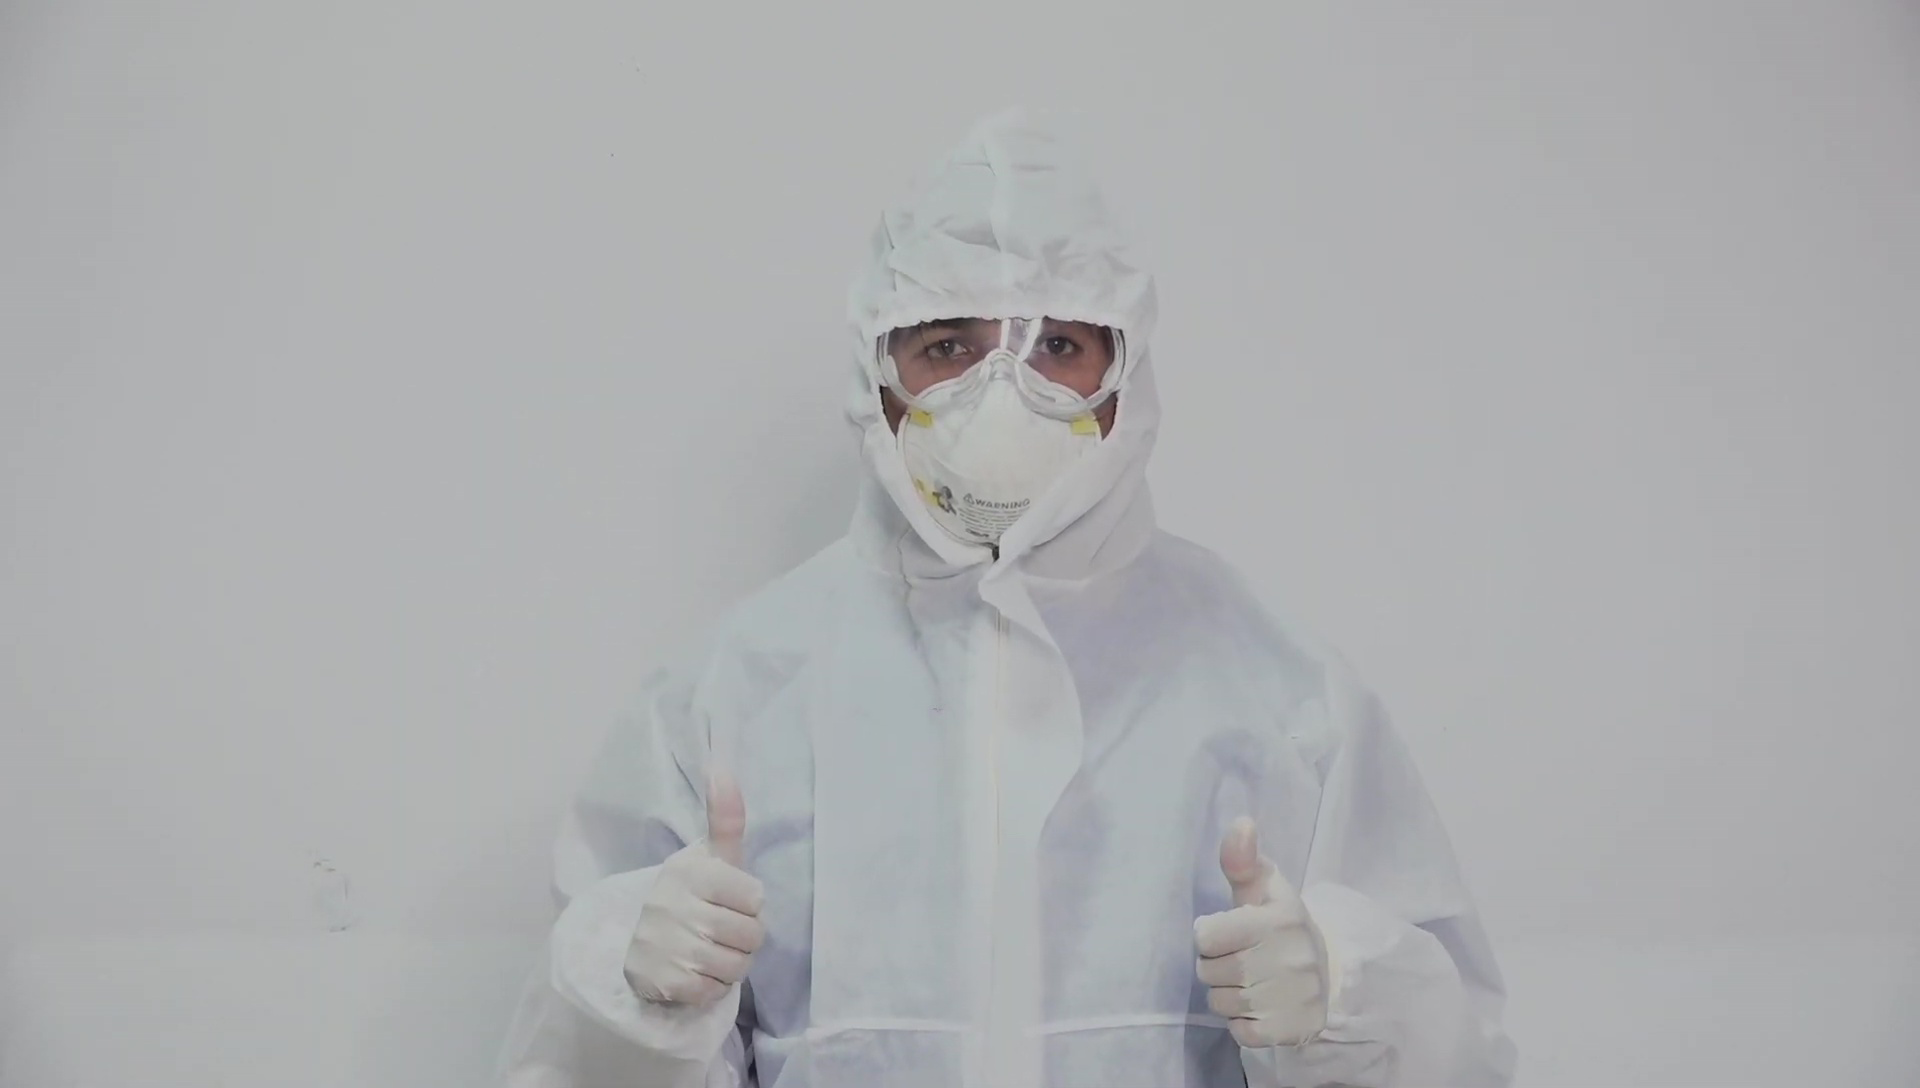Coverall: (491, 99, 1515, 1082)
Gloves: (617, 763, 767, 1007), (1185, 818, 1328, 1050)
Goggles: (876, 308, 1128, 421)
with_mask: (897, 358, 1103, 546)
